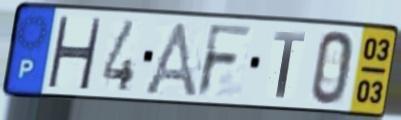0: (308, 28, 355, 107)
4: (99, 17, 136, 94)
A: (139, 19, 201, 101)
F: (194, 21, 256, 100)
H: (44, 14, 104, 92)
T: (272, 29, 308, 101)
